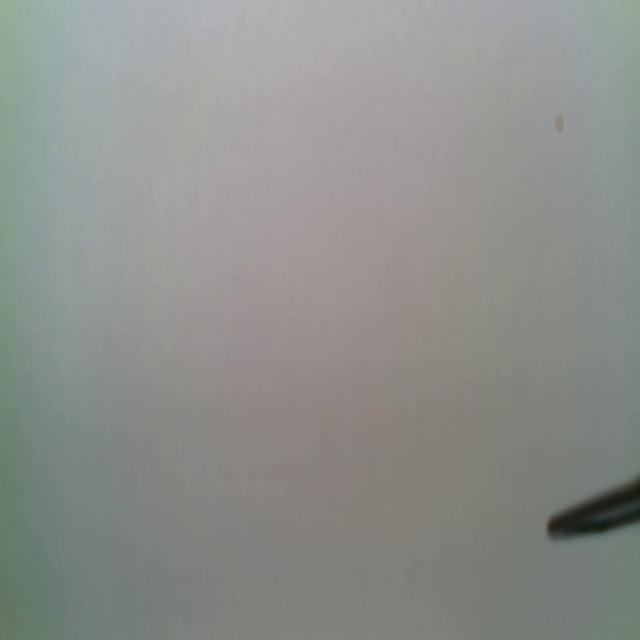color bleeding: (555, 113, 566, 138)
